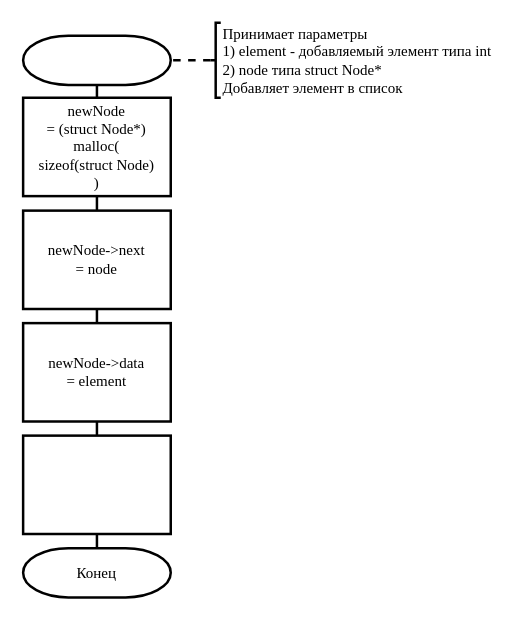
This 514x620 diagram has some shape labels left out. The centre of each missing label's shape, as x and y in pixels:
"return newNode" goes at point 96,484.
"struct Node* add _element_to_node()" goes at point 96,60.
